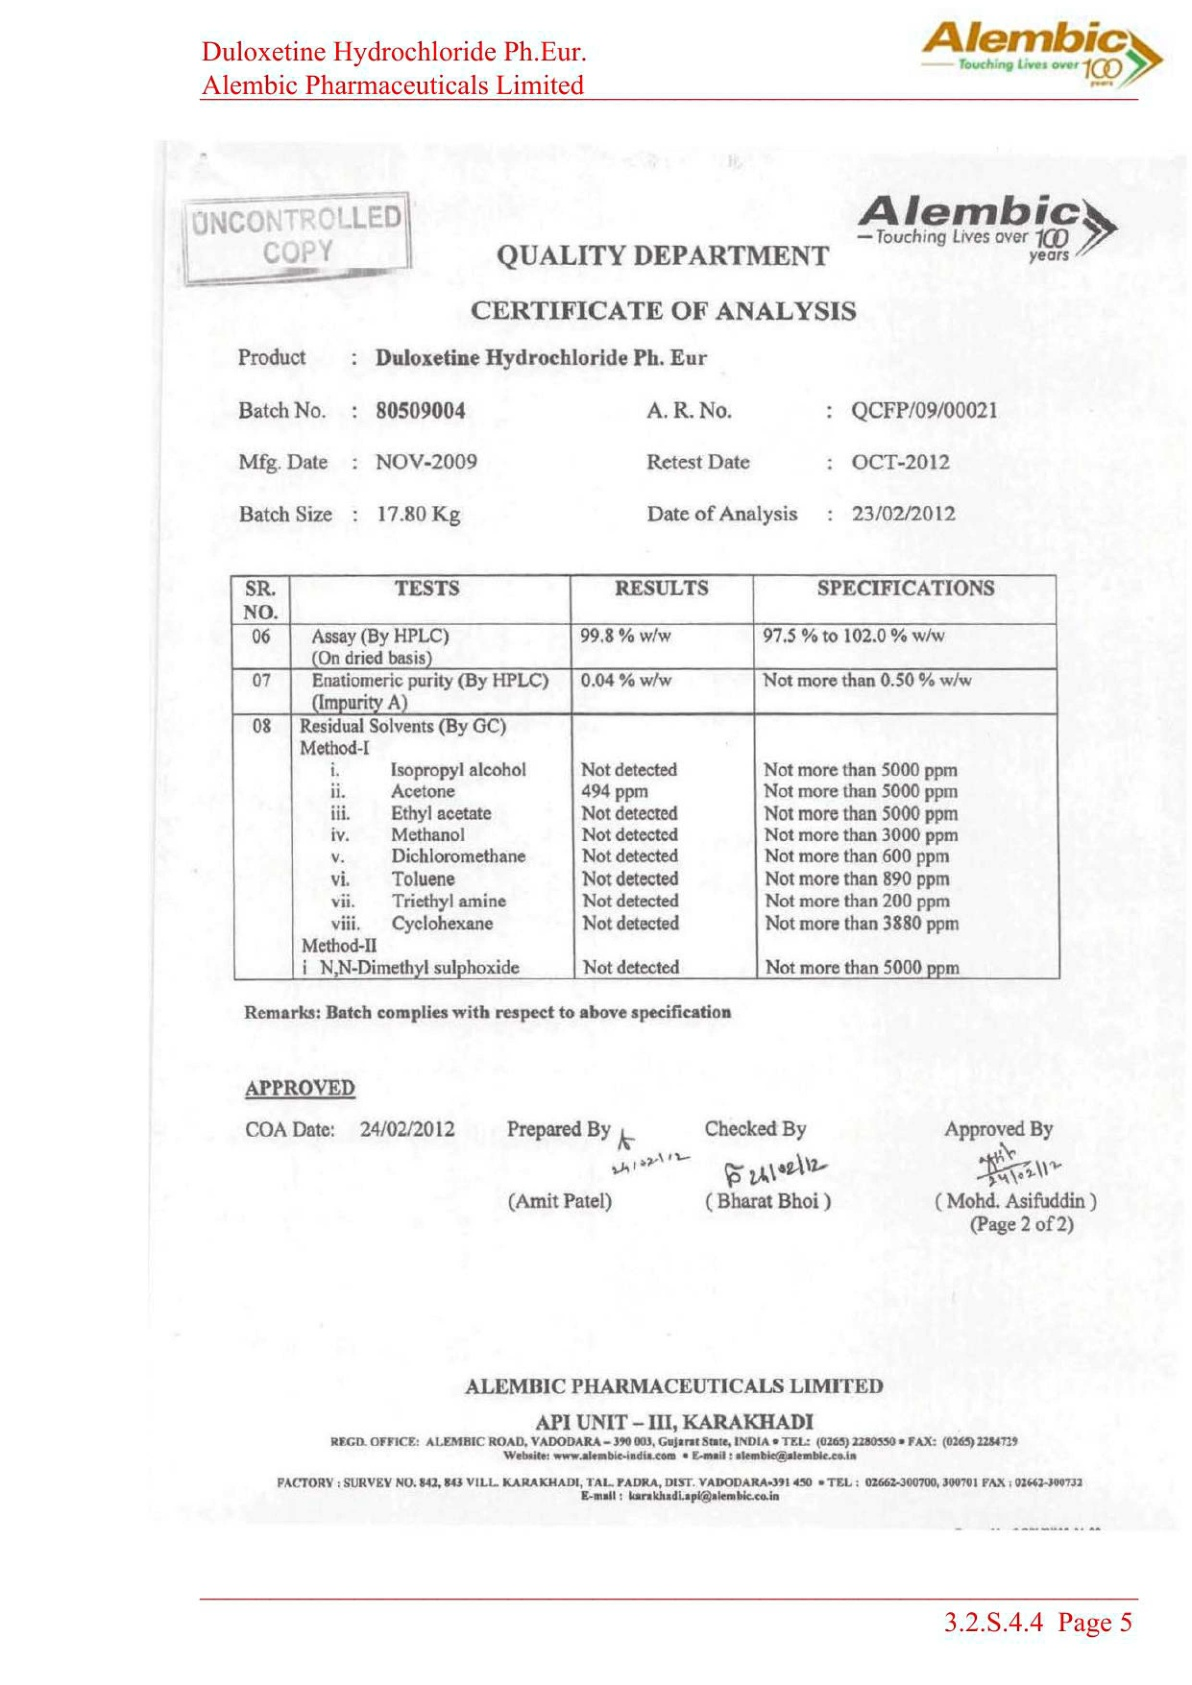full_lined: (230, 573, 1060, 981)
nolines: (233, 343, 998, 526), (241, 1113, 1100, 1233)
